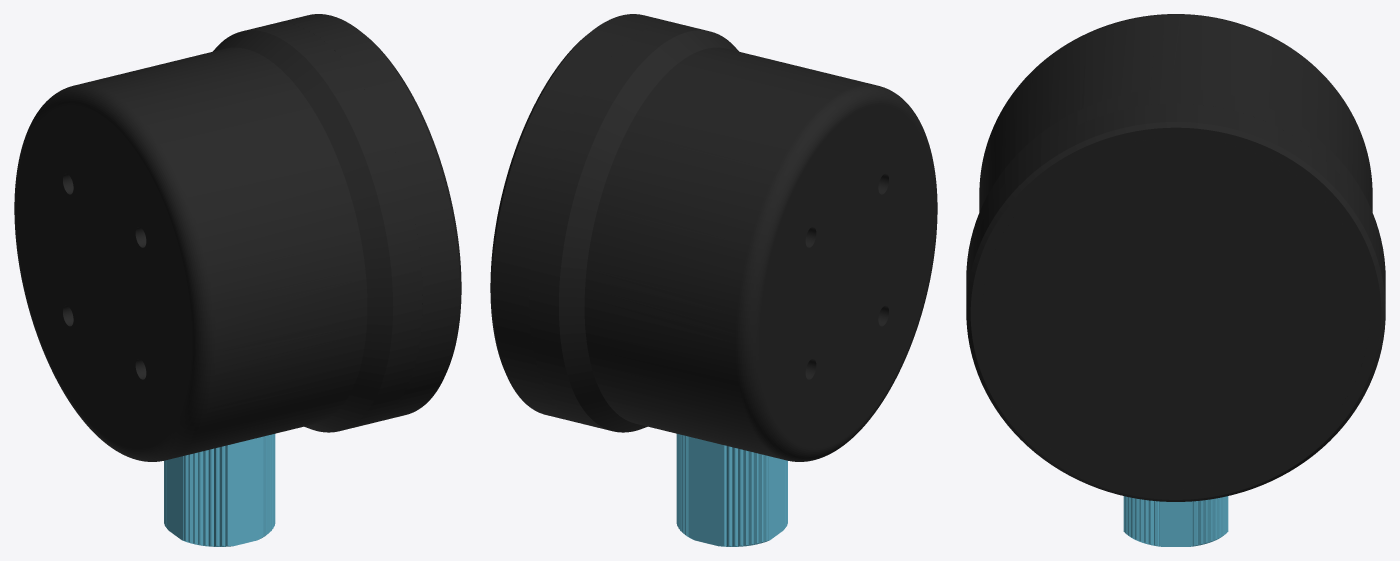
Rendered from ping_sonar.dae.
3 views of the same model, side by side, from view 1: azimuth 30°, elevation 25°; view 2: azimuth 150°, elevation 25°; view 3: azimuth 270°, elevation 25° (orthographic).
Parts seen in each view (by area): view 1: ping_sonar; view 2: ping_sonar; view 3: ping_sonar.
Boxes of the visible parts, x1,y1,x2,y2 form: ping_sonar: (14, 14, 461, 546); ping_sonar: (490, 14, 937, 546); ping_sonar: (966, 14, 1385, 546).
Bounding box in the file's own units: 0.345 × 0.48 × 0.595.
